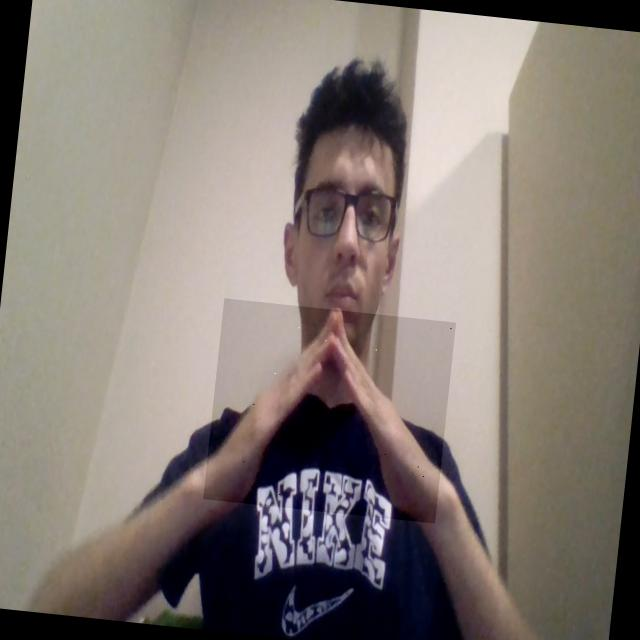house: (202, 298, 456, 523)
